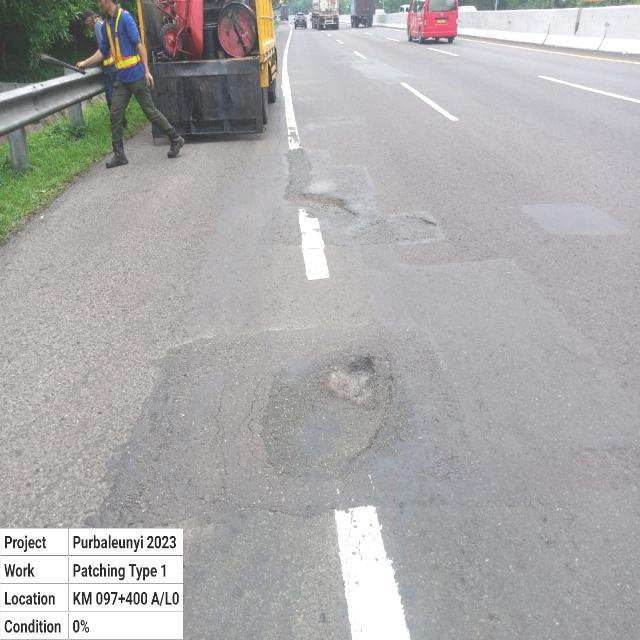Buraco: (316, 353, 382, 414), (286, 190, 360, 220)
